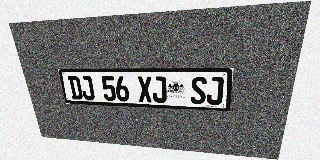5: (101, 76, 117, 101)
6: (114, 76, 130, 102)
D: (67, 76, 83, 100)
J: (206, 77, 224, 105), (151, 76, 167, 103), (79, 76, 95, 100)
S: (191, 77, 207, 104)
X: (137, 76, 152, 102)
